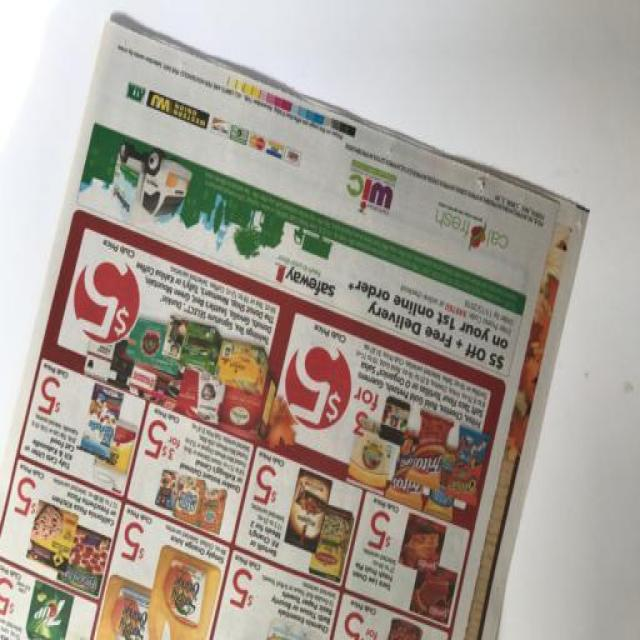paper: (11, 22, 562, 640)
